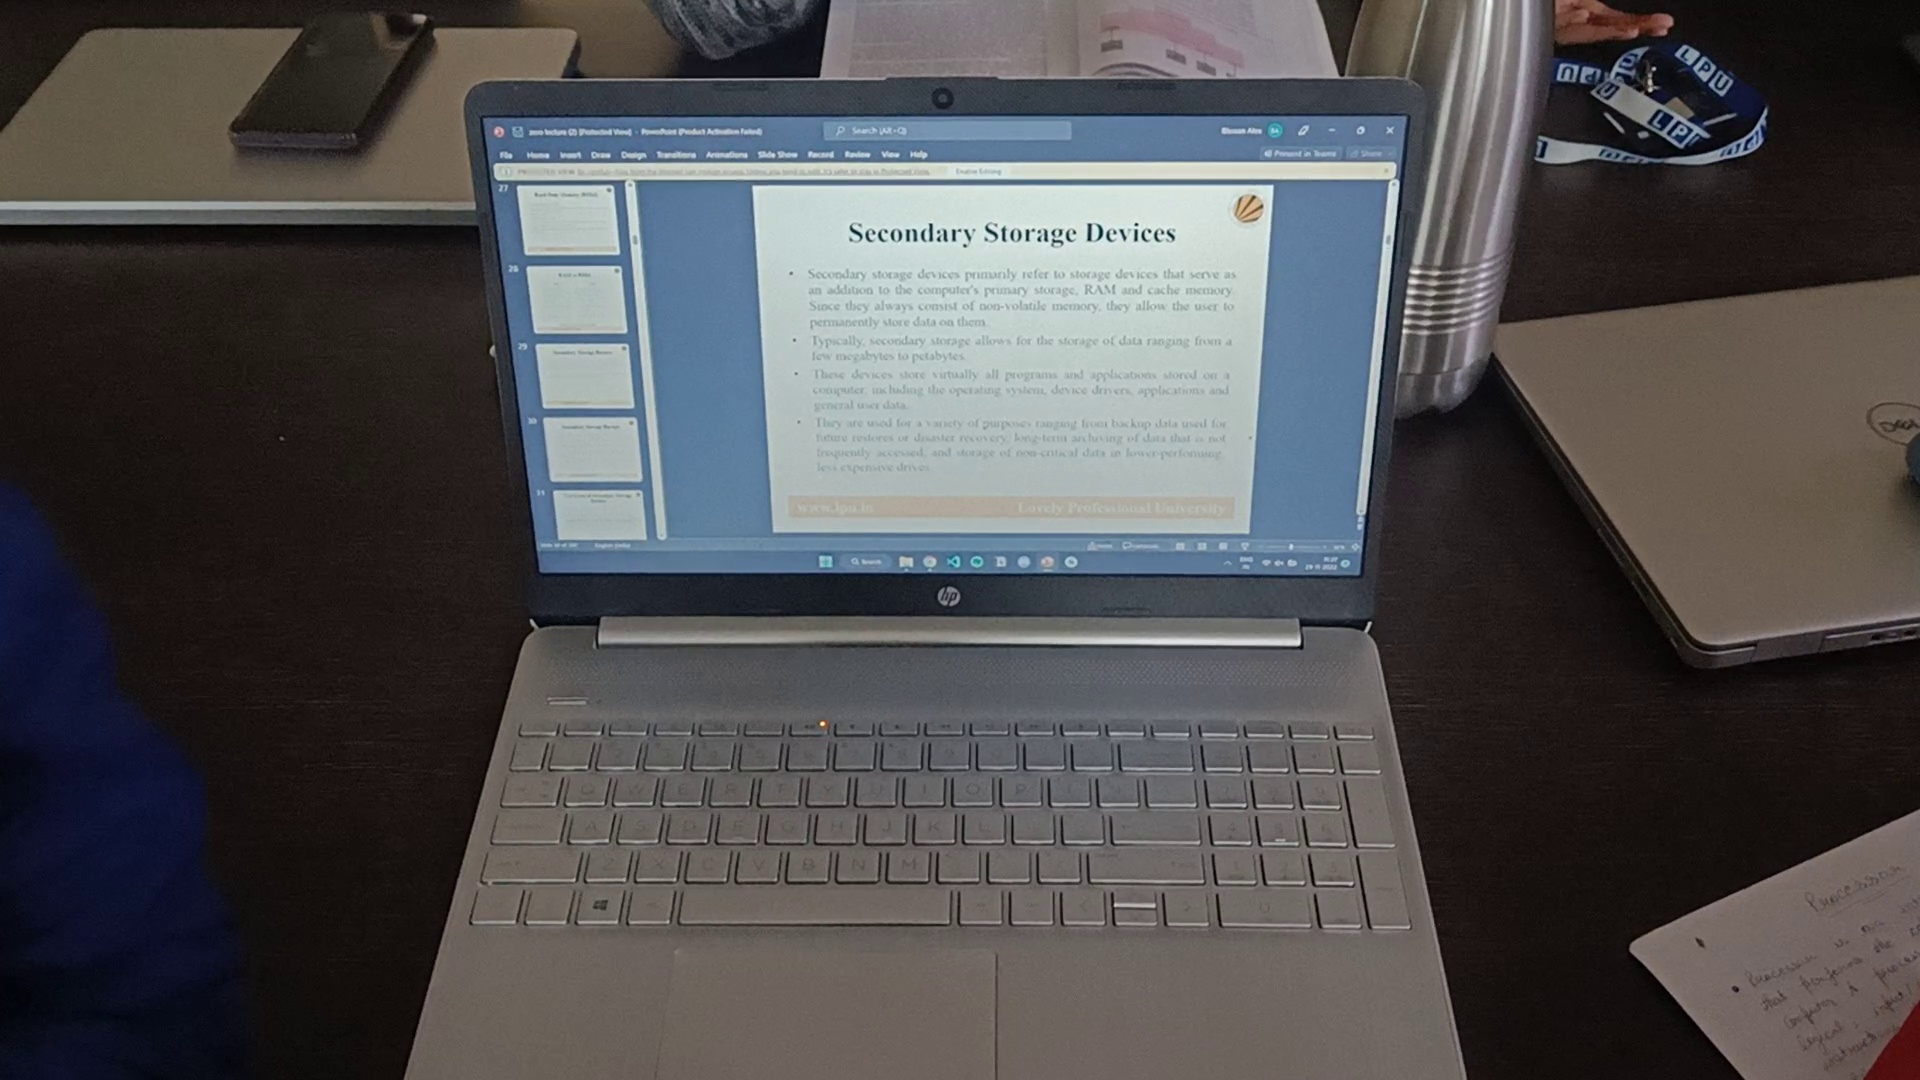laptop: (452, 103, 1485, 1080), (3, 22, 553, 228)
mobile: (235, 15, 418, 165)
